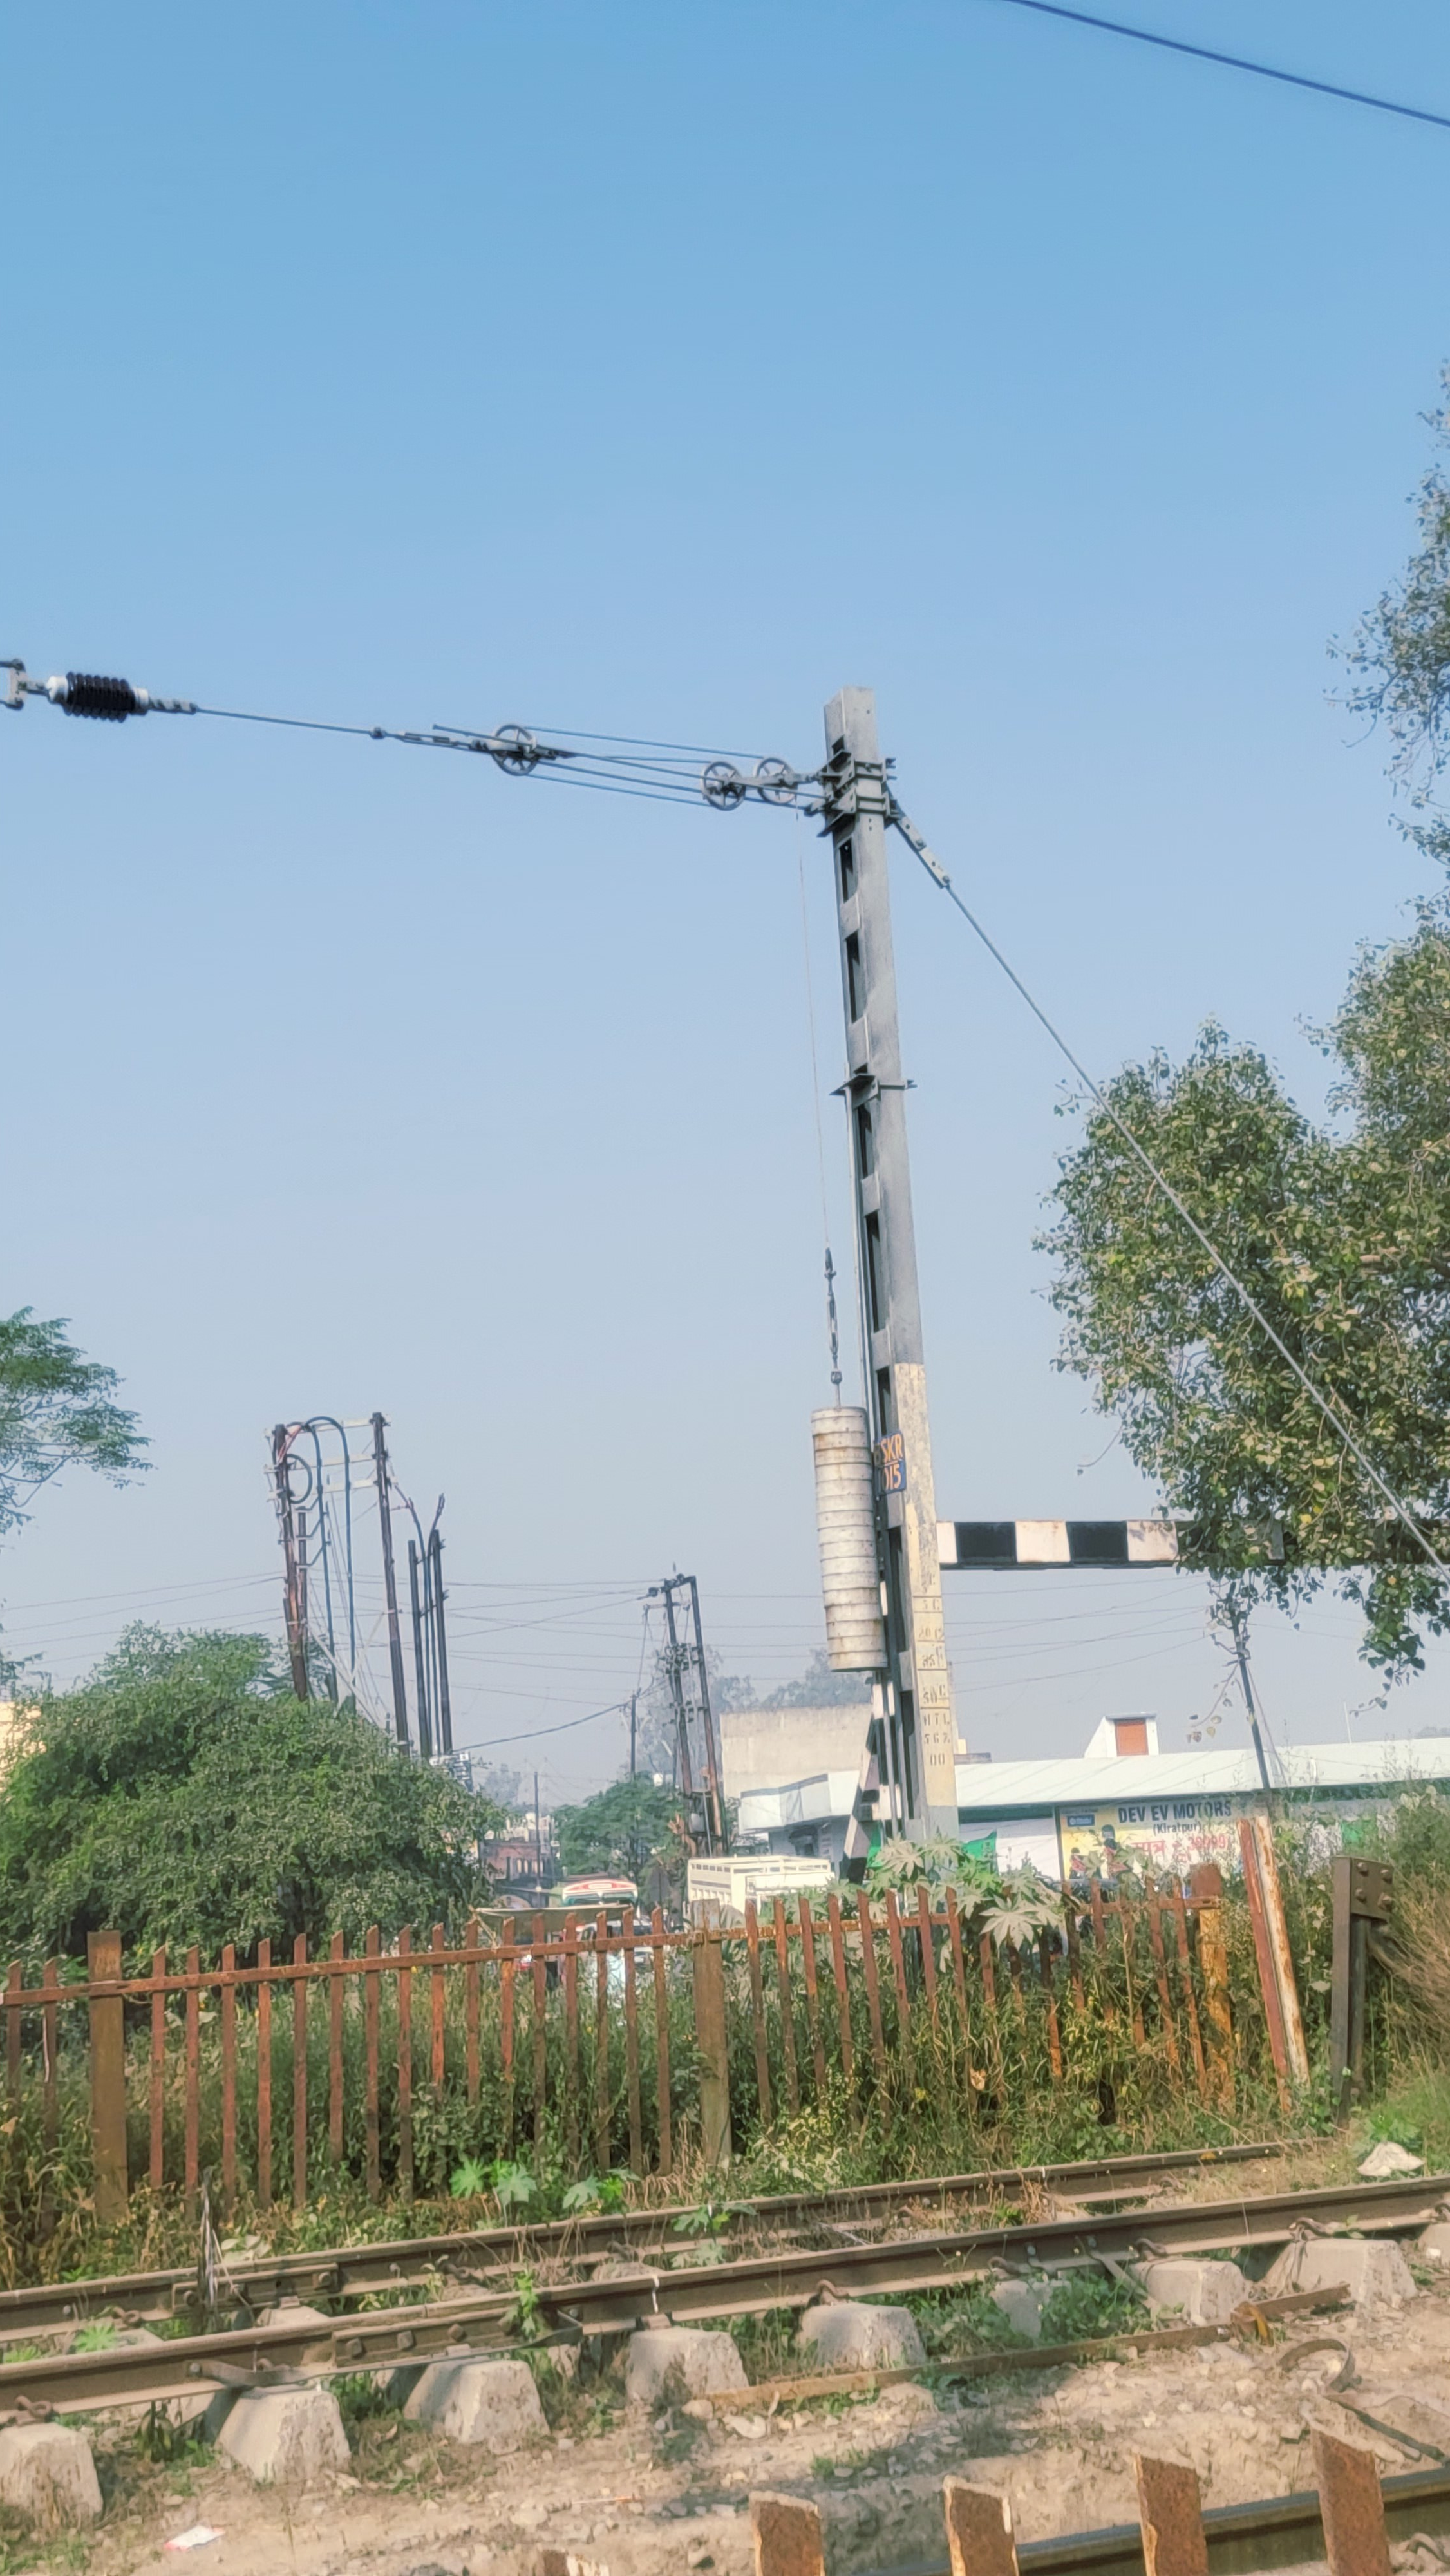counter weight: (778, 1387, 897, 1718)
pulley: (472, 708, 553, 796), (746, 743, 812, 833), (686, 757, 753, 824)
